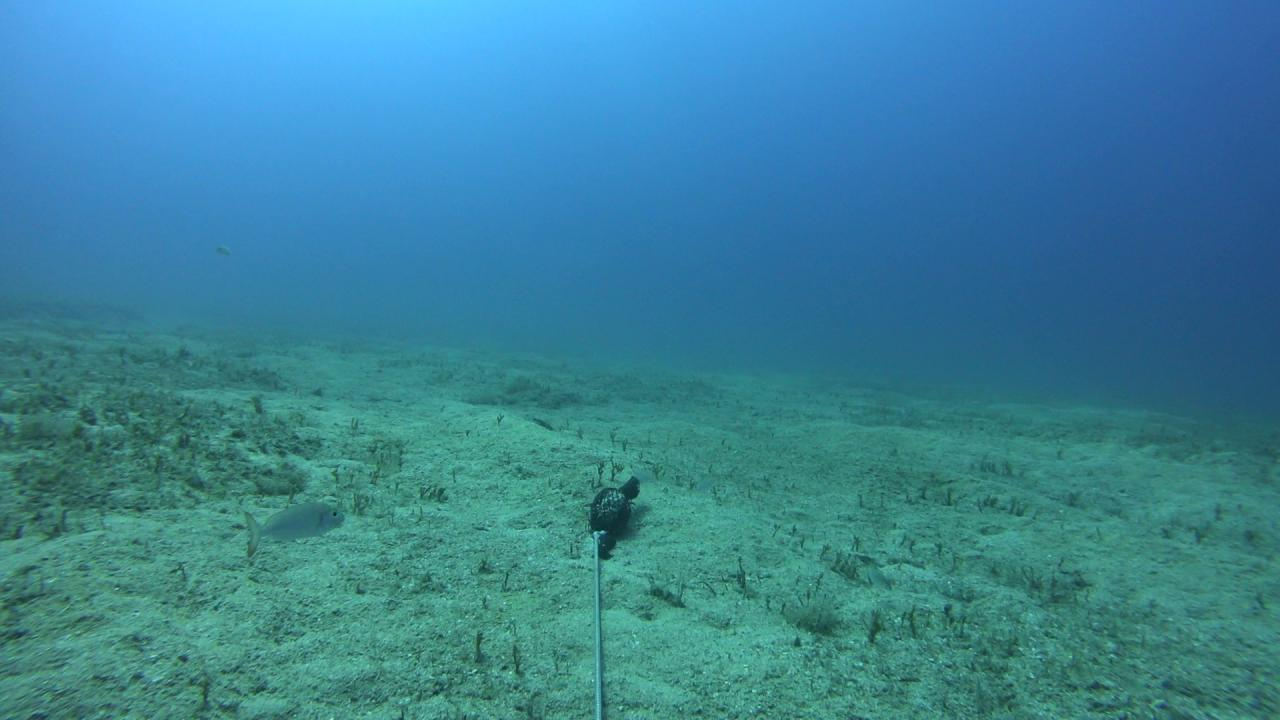pagellus: (244, 499, 345, 558)
